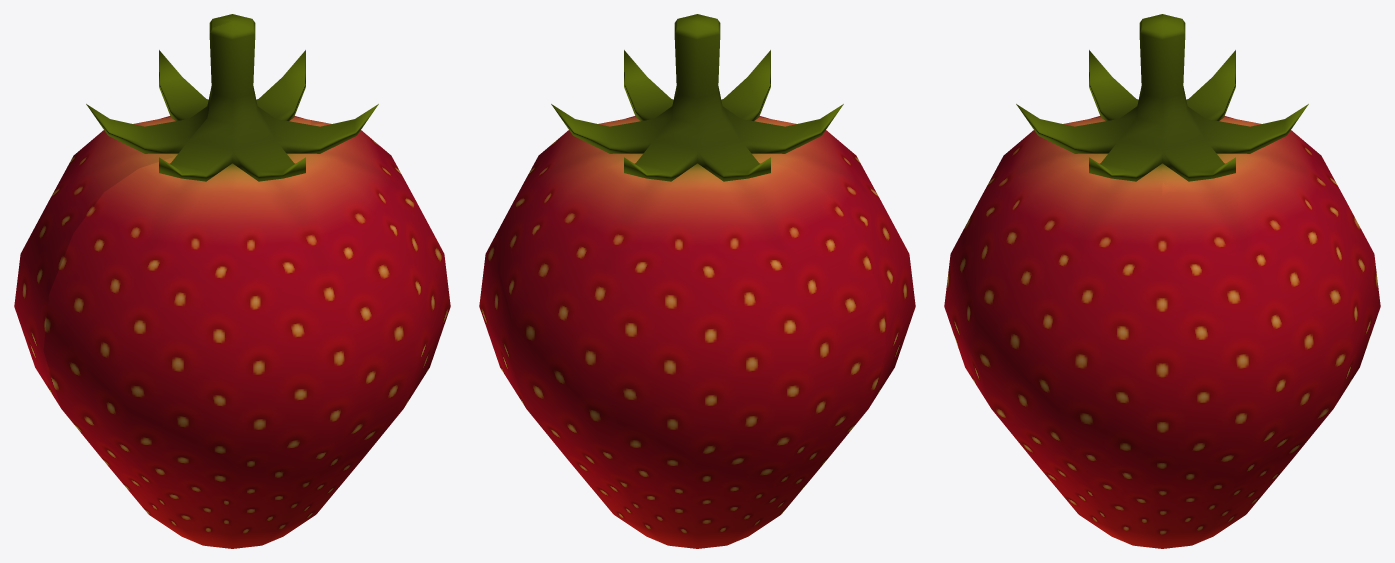
The model's file is Strawberry.fbx.
The picture shows the model from 3 angles, left to right: view 1: azimuth 30°, elevation 25°; view 2: azimuth 150°, elevation 25°; view 3: azimuth 270°, elevation 25°; orthographic projection.
Parts seen in each view (by area): view 1: Strawberry_Whole, Strawberry_Half_Front; view 2: Strawberry_Half_Front, Strawberry_Whole; view 3: Strawberry_Whole, Strawberry_Half_Front.
Part boxes in pixels (bbox=[...]): Strawberry_Whole: bbox=[43, 14, 450, 548]; Strawberry_Half_Front: bbox=[14, 14, 325, 408]; Strawberry_Half_Front: bbox=[551, 21, 886, 548]; Strawberry_Whole: bbox=[479, 14, 915, 544]; Strawberry_Whole: bbox=[944, 14, 1380, 548]; Strawberry_Half_Front: bbox=[1162, 14, 1345, 535].
Size of the model in its own units: 1.06 by 1.38 by 1.06.
